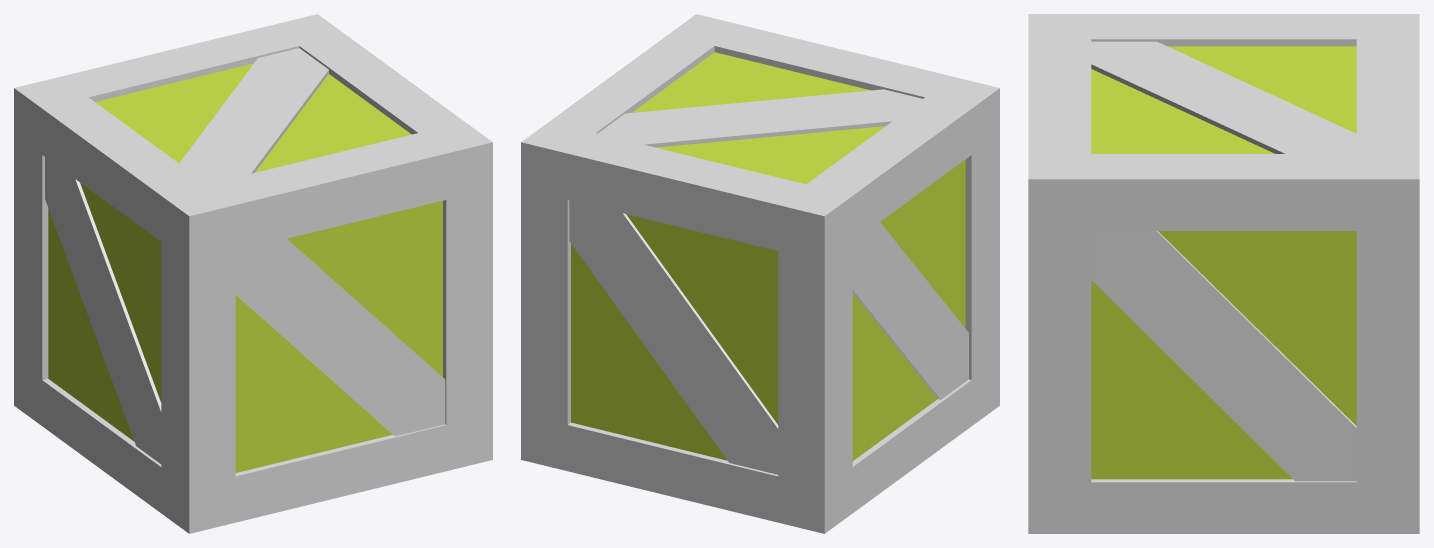
The model's file is CrateBox.fbx.
3 views of the same model, side by side, from view 1: azimuth 30°, elevation 25°; view 2: azimuth 150°, elevation 25°; view 3: azimuth 270°, elevation 25° (orthographic). The views are drawn at different scales.
Parts seen in each view (by area): view 1: Cube, Cube.004; view 2: Cube, Cube.004; view 3: Cube, Cube.004.
Boxes of the visible parts, x1=… form: Cube: x1=14, y1=14, x2=492, y2=533; Cube.004: x1=45, y1=48, x2=445, y2=463; Cube: x1=521, y1=14, x2=999, y2=533; Cube.004: x1=569, y1=89, x2=968, y2=474; Cube: x1=1028, y1=14, x2=1419, y2=533; Cube.004: x1=1091, y1=41, x2=1356, y2=481.
Bounding box in the file's own units: 200 × 200 × 200.
